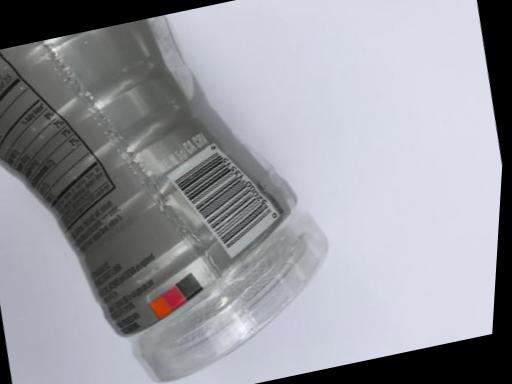plastic: (0, 2, 347, 383)
